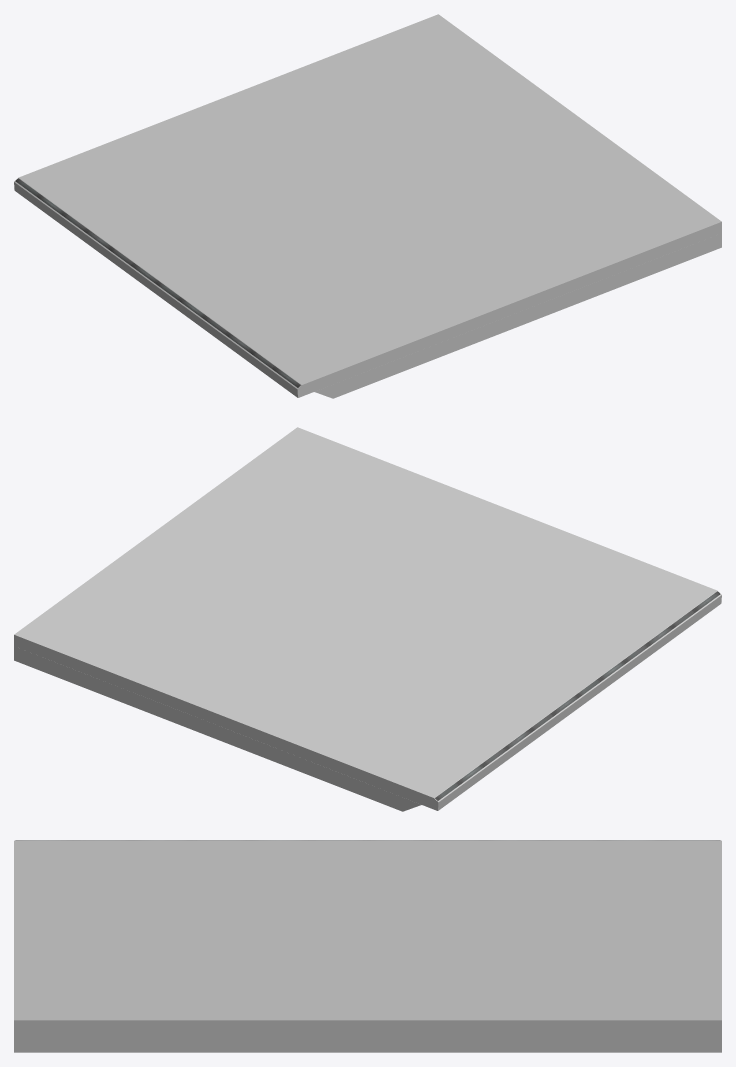
File: SM_M01Roof01_6.fbx
3 renders of one model, top to bottom at view 1: azimuth 30°, elevation 25°; view 2: azimuth 150°, elevation 25°; view 3: azimuth 270°, elevation 25°, orthographic. The views are drawn at different scales.
Visible parts, largest first — view 1: SM_M01Roof01_6_ConvexHulls, SM_M01Roof01_6; view 2: SM_M01Roof01_6_ConvexHulls, SM_M01Roof01_6; view 3: SM_M01Roof01_6_ConvexHulls, SM_M01Roof01_6.
Part boxes in pixels (<box>): SM_M01Roof01_6_ConvexHulls: <box>14,14,721,398</box>; SM_M01Roof01_6: <box>15,178,300,387</box>; SM_M01Roof01_6_ConvexHulls: <box>14,427,721,811</box>; SM_M01Roof01_6: <box>435,591,720,800</box>; SM_M01Roof01_6_ConvexHulls: <box>14,840,721,1052</box>; SM_M01Roof01_6: <box>15,840,720,840</box>.
Size of the model in its own units: 390 by 452 by 72.2.
3 materials, 2 textured.
